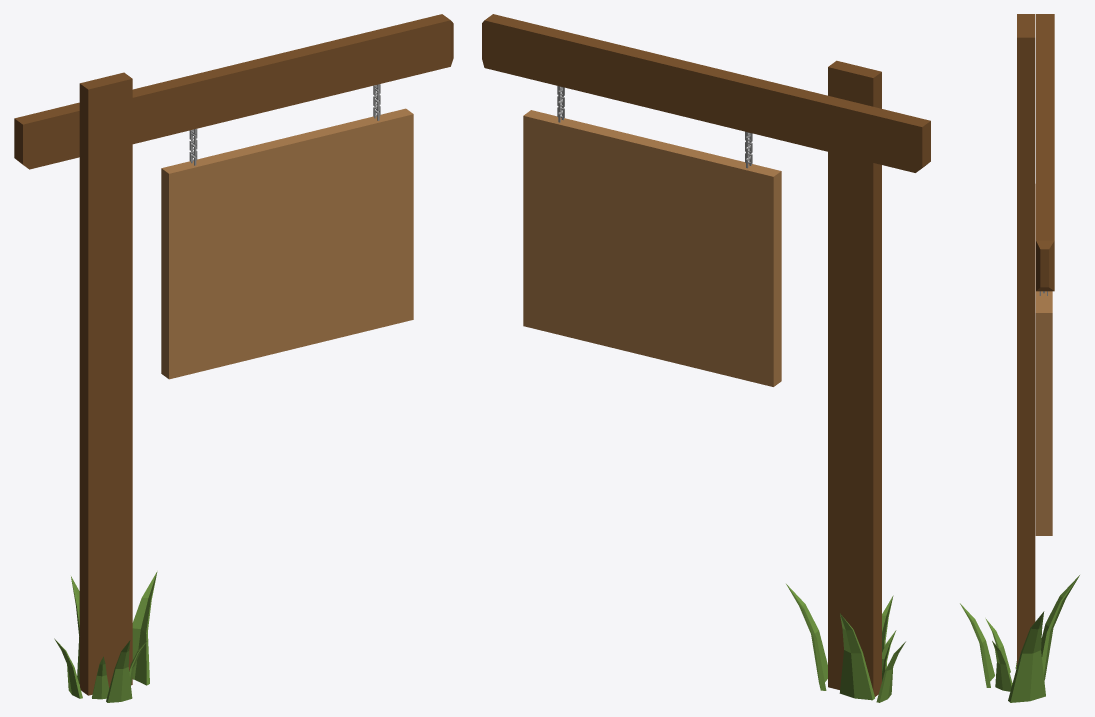
The model's file is Sign9.fbx.
3 renders of one model, left to right at view 1: azimuth 30°, elevation 25°; view 2: azimuth 150°, elevation 25°; view 3: azimuth 270°, elevation 25°, orthographic. The views are drawn at different scales.
Parts seen in each view (by area): view 1: Sign9; view 2: Sign9; view 3: Sign9.
Boxes of the visible parts, bbox=[...] form: Sign9: bbox=[14, 14, 453, 702]; Sign9: bbox=[482, 14, 930, 702]; Sign9: bbox=[960, 14, 1079, 702].
Size of the model in its own units: 1.55 by 2.08 by 0.3487.
